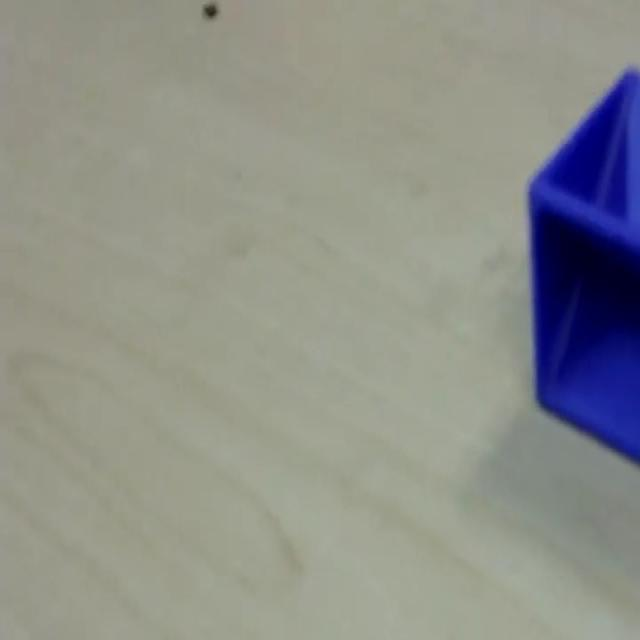blue_block: (526, 64, 638, 463)
